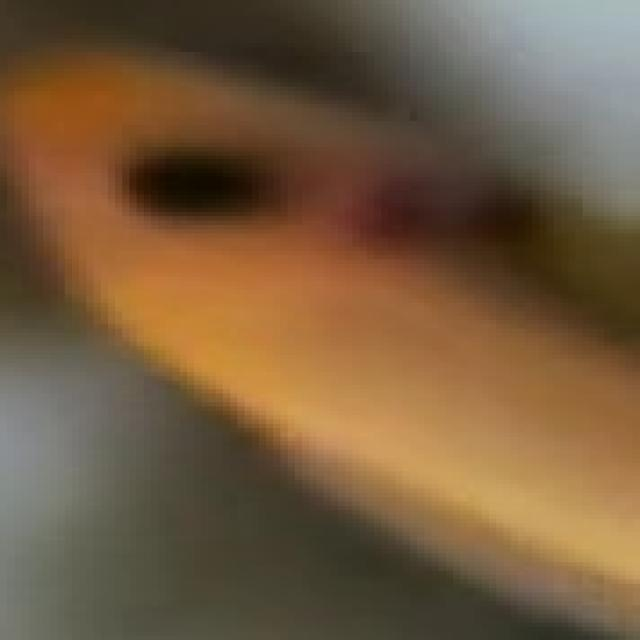fish: (0, 0, 633, 636)
